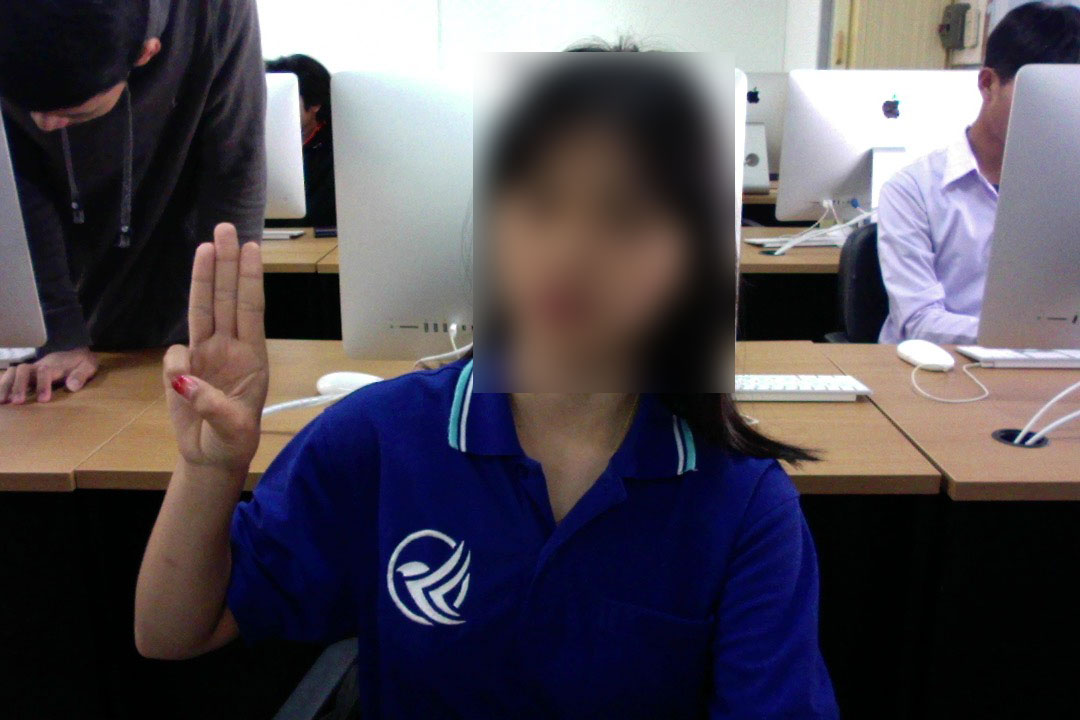wor: (155, 213, 278, 495)
